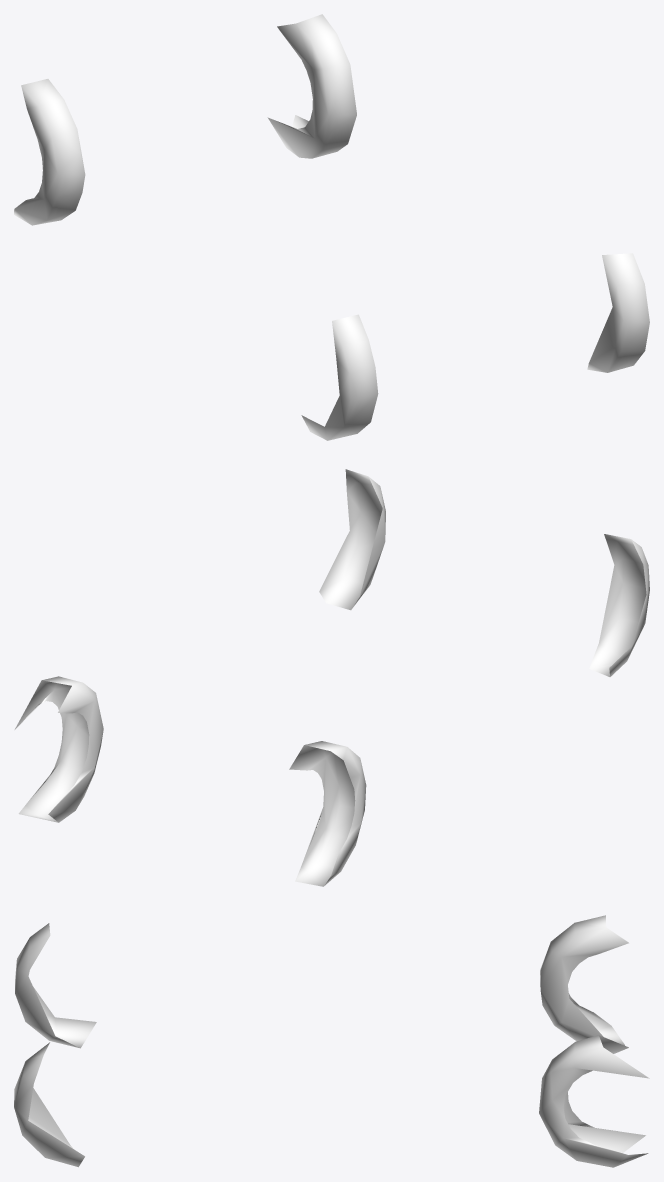
3 views of the same model, one above another, from view 1: azimuth 30°, elevation 25°; view 2: azimuth 150°, elevation 25°; view 3: azimuth 270°, elevation 25° (orthographic). The views are drawn at different scales.
Size of the model in its own units: 1.45 by 0.6149 by 2.91.
1 material, 1 textured.
